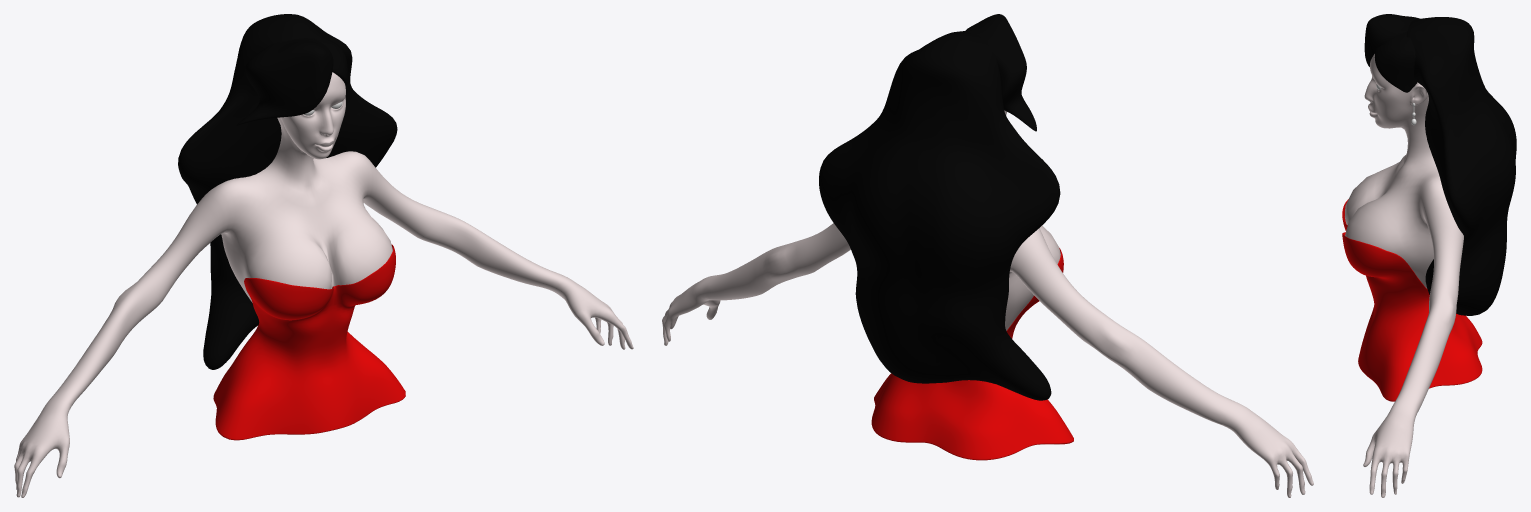
The model's file is Senorita-Aguirre_Modelado.fbx.
The picture shows the model from 3 angles, left to right: view 1: azimuth 30°, elevation 25°; view 2: azimuth 150°, elevation 25°; view 3: azimuth 270°, elevation 25°; orthographic projection. The views are drawn at different scales.
Visible parts, largest first — view 1: Senorita_Aguirre_Cuerpo2, Senorita_Aguirre_Vestido1, Senorita_Aguirre_Pelo2, Senorita_Aguirre_Pelo4; view 2: Senorita_Aguirre_Pelo2, Senorita_Aguirre_Cuerpo2, Senorita_Aguirre_Vestido1, Senorita_Aguirre_Pelo4; view 3: Senorita_Aguirre_Cuerpo2, Senorita_Aguirre_Pelo2, Senorita_Aguirre_Vestido1, Senorita_Aguirre_Pelo6, Senorita_Aguirre_Pelo4.
Part boxes in pixels (<box>): Senorita_Aguirre_Cuerpo2: <box>14,72,633,497</box>; Senorita_Aguirre_Vestido1: <box>213,244,405,440</box>; Senorita_Aguirre_Pelo2: <box>178,14,397,369</box>; Senorita_Aguirre_Pelo4: <box>236,37,333,125</box>; Senorita_Aguirre_Pelo2: <box>819,32,1060,400</box>; Senorita_Aguirre_Cuerpo2: <box>662,110,1313,497</box>; Senorita_Aguirre_Vestido1: <box>871,248,1073,460</box>; Senorita_Aguirre_Pelo4: <box>964,14,1036,131</box>; Senorita_Aguirre_Cuerpo2: <box>1345,54,1463,497</box>; Senorita_Aguirre_Pelo2: <box>1406,17,1516,315</box>; Senorita_Aguirre_Vestido1: <box>1342,199,1482,401</box>; Senorita_Aguirre_Pelo6: <box>1374,32,1417,92</box>; Senorita_Aguirre_Pelo4: <box>1364,14,1420,66</box>.
Size of the model in its own units: 270 by 161 by 74.09.
